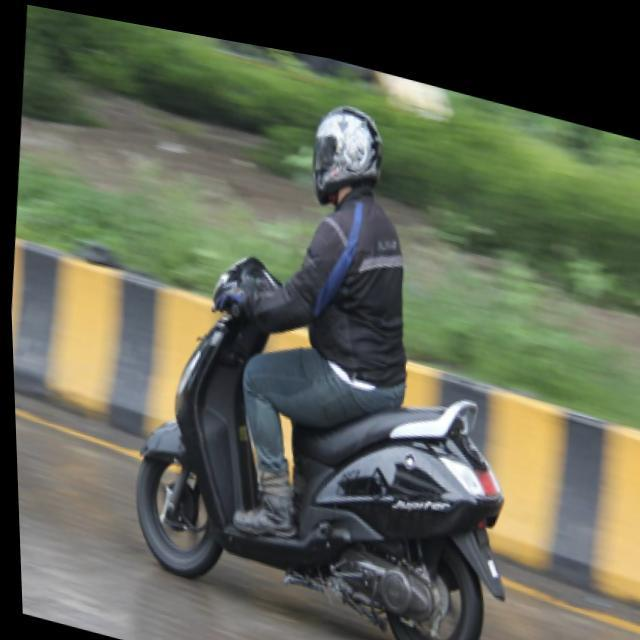Helmet: (305, 100, 395, 214)
